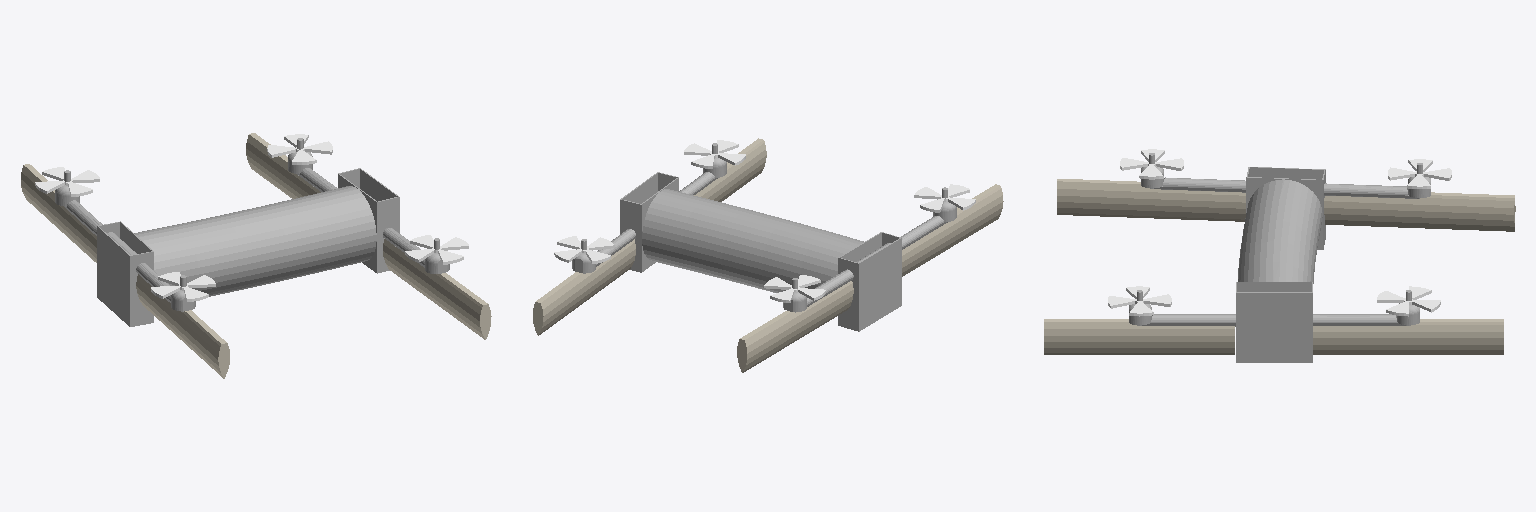
robot.urdf — drone_description:
<?xml version="1.0" encoding="utf-8"?>
<!-- This URDF was automatically created by SolidWorks to URDF Exporter! Originally created by [author] ([email redacted]) 
     Commit Version: 1.5.0-0-g9aa0fdb  Build Version: 1.5.7004.21443
     For more information, please see http://wiki.ros.org/sw_urdf_exporter -->
<robot
  name="drone_description">
  <link
    name="drone_body">
    <inertial>
      <origin
        xyz="3.9739303772232E-05 -0.00112994714726676 -0.00455425521413035"
        rpy="0 0 0" />
      <mass
        value="0.357445870183079" />
      <inertia
        ixx="0.000431080496676135"
        ixy="5.48449149897168E-05"
        ixz="-3.7324869857622E-10"
        iyy="0.00168484099043515"
        iyz="1.18114705298716E-12"
        izz="0.00169240821714416" />
    </inertial>
    <visual>
      <origin
        xyz="0 0 0"
        rpy="0 0 0" />
      <geometry>
        <mesh
          filename="package://drone_description/meshes/drone_body.STL" />
      </geometry>
      <material
        name="">
        <color
          rgba="0.752941176470588 0.752941176470588 0.752941176470588 1" />
      </material>
    </visual>
    <collision>
      <origin
        xyz="0 0 0"
        rpy="0 0 0" />
      <geometry>
        <mesh
          filename="package://drone_description/meshes/drone_body.STL" />
      </geometry>
    </collision>
  </link>
  <link
    name="front_arm">
    <inertial>
      <origin
        xyz="-3.328156376603E-07 0.00528847069891194 -4.23110765174206E-12"
        rpy="0 0 0" />
      <mass
        value="0.0488863352917365" />
      <inertia
        ixx="0.000132396833896061"
        ixy="-4.99567917547445E-13"
        ixz="-7.39033945209973E-13"
        iyy="0.000132377174520321"
        iyz="-2.4738845028855E-17"
        izz="2.60423234522648E-06" />
    </inertial>
    <visual>
      <origin
        xyz="0 0 0"
        rpy="0 0 0" />
      <geometry>
        <mesh
          filename="package://drone_description/meshes/front_arm.STL" />
      </geometry>
      <material
        name="">
        <color
          rgba="0.752941176470588 0.752941176470588 0.752941176470588 1" />
      </material>
    </visual>
    <collision>
      <origin
        xyz="0 0 0"
        rpy="0 0 0" />
      <geometry>
        <mesh
          filename="package://drone_description/meshes/front_arm.STL" />
      </geometry>
    </collision>
  </link>
  <joint
    name="front_arm_joint"
    type="continuous">
    <origin
      xyz="0.132672408666361 -0.00476080646900178 -0.00245406277845809"
      rpy="1.5707963267949 0 0" />
    <parent
      link="drone_body" />
    <child
      link="front_arm" />
    <axis
      xyz="0 0 -1" />
    <safety_controller
      k_velocity="0" />
  </joint>
  <link
    name="front_right_prop">
    <inertial>
      <origin
        xyz="-2.77555756156289E-17 2.77555756156289E-17 0.0015875"
        rpy="0 0 0" />
      <mass
        value="0.00504005698984341" />
      <inertia
        ixx="1.27162752917409E-06"
        ixy="3.11019910319938E-22"
        ixz="1.7556908501438E-22"
        iyy="1.27162752917409E-06"
        iyz="2.36643125436923E-23"
        izz="2.53478723759932E-06" />
    </inertial>
    <visual>
      <origin
        xyz="0 0 0"
        rpy="0 0 0" />
      <geometry>
        <mesh
          filename="package://drone_description/meshes/front_right_prop.STL" />
      </geometry>
      <material
        name="">
        <color
          rgba="1 1 1 1" />
      </material>
    </visual>
    <collision>
      <origin
        xyz="0 0 0"
        rpy="0 0 0" />
      <geometry>
        <mesh
          filename="package://drone_description/meshes/front_right_prop.STL" />
      </geometry>
    </collision>
  </link>
  <joint
    name="front_right_prop_joint"
    type="continuous">
    <origin
      xyz="0 0.019049999962237 0.1325"
      rpy="-1.5707963267949 0 6.29649045572343E-05" />
    <parent
      link="front_arm" />
    <child
      link="front_right_prop" />
    <axis
      xyz="0 0 1" />
    <safety_controller
      k_velocity="0" />
  </joint>
  <link
    name="front_left_prop">
    <inertial>
      <origin
        xyz="0 2.77555756156289E-17 0.0015875"
        rpy="0 0 0" />
      <mass
        value="0.00504005698984341" />
      <inertia
        ixx="1.2716275291741E-06"
        ixy="-2.11758236813575E-22"
        ixz="1.98239003677162E-22"
        iyy="1.27162752917409E-06"
        iyz="2.84666452991882E-23"
        izz="2.53478723759932E-06" />
    </inertial>
    <visual>
      <origin
        xyz="0 0 0"
        rpy="0 0 0" />
      <geometry>
        <mesh
          filename="package://drone_description/meshes/front_left_prop.STL" />
      </geometry>
      <material
        name="">
        <color
          rgba="1 1 1 1" />
      </material>
    </visual>
    <collision>
      <origin
        xyz="0 0 0"
        rpy="0 0 0" />
      <geometry>
        <mesh
          filename="package://drone_description/meshes/front_left_prop.STL" />
      </geometry>
    </collision>
  </link>
  <joint
    name="front_left_prop_joint"
    type="continuous">
    <origin
      xyz="0 0.0190499999622373 -0.1325"
      rpy="-1.5707963267949 0 6.29649045572343E-05" />
    <parent
      link="front_arm" />
    <child
      link="front_left_prop" />
    <axis
      xyz="0 0 1" />
    <safety_controller
      k_velocity="0" />
  </joint>
  <link
    name="front_right_wing">
    <inertial>
      <origin
        xyz="-2.5687142760078E-07 -6.69619957427425E-07 8.55690921422805E-05"
        rpy="0 0 0" />
      <mass
        value="0.0106409229155552" />
      <inertia
        ixx="3.22240827607208E-05"
        ixy="8.34233189015923E-12"
        ixz="4.40330785296604E-13"
        iyy="1.00346951370682E-06"
        iyz="-3.00146201115274E-21"
        izz="3.14347766518031E-05" />
    </inertial>
    <visual>
      <origin
        xyz="0 0 0"
        rpy="0 0 0" />
      <geometry>
        <mesh
          filename="package://drone_description/meshes/front_right_wing.STL" />
      </geometry>
      <material
        name="">
        <color
          rgba="0.843137254901961 0.815686274509804 0.752941176470588 1" />
      </material>
    </visual>
    <collision>
      <origin
        xyz="0 0 0"
        rpy="0 0 0" />
      <geometry>
        <mesh
          filename="package://drone_description/meshes/front_right_wing.STL" />
      </geometry>
    </collision>
  </link>
  <joint
    name="front_right_wing_joint"
    type="fixed">
    <origin
      xyz="0 -0.0170179999662659 0.1325"
      rpy="-1.5707963267949 0 6.29649045571202E-05" />
    <parent
      link="front_arm" />
    <child
      link="front_right_wing" />
    <axis
      xyz="0 0 0" />
    <safety_controller
      k_velocity="0" />
  </joint>
  <link
    name="front_left_wing">
    <inertial>
      <origin
        xyz="2.56846023199975E-07 6.69619957344159E-07 8.55690884140337E-05"
        rpy="0 0 0" />
      <mass
        value="0.0106409229167305" />
      <inertia
        ixx="3.22240827618886E-05"
        ixy="8.34233188918646E-12"
        ixz="-4.43666864087224E-13"
        iyy="1.00346951311838E-06"
        iyz="-3.89512807323328E-22"
        izz="3.14347766541992E-05" />
    </inertial>
    <visual>
      <origin
        xyz="0 0 0"
        rpy="0 0 0" />
      <geometry>
        <mesh
          filename="package://drone_description/meshes/front_left_wing.STL" />
      </geometry>
      <material
        name="">
        <color
          rgba="0.843137254901961 0.815686274509804 0.752941176470588 1" />
      </material>
    </visual>
    <collision>
      <origin
        xyz="0 0 0"
        rpy="0 0 0" />
      <geometry>
        <mesh
          filename="package://drone_description/meshes/front_left_wing.STL" />
      </geometry>
    </collision>
  </link>
  <joint
    name="front_left_wing_joint"
    type="fixed">
    <origin
      xyz="0 -0.0170179999662655 -0.1325"
      rpy="-1.5707963267949 0 6.29649045573601E-05" />
    <parent
      link="front_arm" />
    <child
      link="front_left_wing" />
    <axis
      xyz="0 0 0" />
    <safety_controller
      k_velocity="0" />
  </joint>
  <link
    name="back_arm">
    <inertial>
      <origin
        xyz="1.01225966386564E-05 0.00528846019484934 1.47609310191532E-10"
        rpy="0 0 0" />
      <mass
        value="0.0488863080383806" />
      <inertia
        ixx="0.000132396769219207"
        ixy="-3.97533673058159E-11"
        ixz="-7.4484792510868E-13"
        iyy="0.000132377109834705"
        iyz="5.11229898613289E-16"
        izz="2.60423206426902E-06" />
    </inertial>
    <visual>
      <origin
        xyz="0 0 0"
        rpy="0 0 0" />
      <geometry>
        <mesh
          filename="package://drone_description/meshes/back_arm.STL" />
      </geometry>
      <material
        name="">
        <color
          rgba="0.752941176470588 0.752941176470588 0.752941176470588 1" />
      </material>
    </visual>
    <collision>
      <origin
        xyz="0 0 0"
        rpy="0 0 0" />
      <geometry>
        <mesh
          filename="package://drone_description/meshes/back_arm.STL" />
      </geometry>
    </collision>
  </link>
  <joint
    name="back_arm_joint"
    type="continuous">
    <origin
      xyz="-0.132404672949994 0.006812708857805 0.0175458972215418"
      rpy="1.5707963267949 0 -0.0872664625997166" />
    <parent
      link="drone_body" />
    <child
      link="back_arm" />
    <axis
      xyz="0 0 1" />
    <safety_controller
      k_velocity="0" />
  </joint>
  <link
    name="back_right_prop">
    <inertial>
      <origin
        xyz="-2.77555756156289E-17 2.77555756156289E-17 0.0015875"
        rpy="0 0 0" />
      <mass
        value="0.00504005698984341" />
      <inertia
        ixx="1.2716275291741E-06"
        ixy="1.27143339610406E-22"
        ixz="1.4475660719678E-22"
        iyy="1.27162752917409E-06"
        iyz="-2.05618043510812E-24"
        izz="2.53478723759932E-06" />
    </inertial>
    <visual>
      <origin
        xyz="0 0 0"
        rpy="0 0 0" />
      <geometry>
        <mesh
          filename="package://drone_description/meshes/back_right_prop.STL" />
      </geometry>
      <material
        name="">
        <color
          rgba="1 1 1 1" />
      </material>
    </visual>
    <collision>
      <origin
        xyz="0 0 0"
        rpy="0 0 0" />
      <geometry>
        <mesh
          filename="package://drone_description/meshes/back_right_prop.STL" />
      </geometry>
    </collision>
  </link>
  <joint
    name="back_right_prop_joint"
    type="continuous">
    <origin
      xyz="3.64629030858987E-05 0.0190499651038185 0.1325"
      rpy="-1.5707963267949 0 -0.00191406432285105" />
    <parent
      link="back_arm" />
    <child
      link="back_right_prop" />
    <axis
      xyz="0.000114168295889295 0 0.9999999934828" />
    <safety_controller
      k_velocity="0" />
  </joint>
  <link
    name="back_left_prop">
    <inertial>
      <origin
        xyz="-5.55111512312578E-17 0 0.0015875"
        rpy="0 0 0" />
      <mass
        value="0.00504005698984341" />
      <inertia
        ixx="1.2716275291741E-06"
        ixy="5.43898856097587E-23"
        ixz="1.70399206185924E-22"
        iyy="1.27162752917409E-06"
        iyz="-4.03801898769125E-23"
        izz="2.53478723759932E-06" />
    </inertial>
    <visual>
      <origin
        xyz="0 0 0"
        rpy="0 0 0" />
      <geometry>
        <mesh
          filename="package://drone_description/meshes/back_left_prop.STL" />
      </geometry>
      <material
        name="">
        <color
          rgba="1 1 1 1" />
      </material>
    </visual>
    <collision>
      <origin
        xyz="0 0 0"
        rpy="0 0 0" />
      <geometry>
        <mesh
          filename="package://drone_description/meshes/back_left_prop.STL" />
      </geometry>
    </collision>
  </link>
  <joint
    name="back_left_prop_joint"
    type="continuous">
    <origin
      xyz="3.6462903085871E-05 0.0190499651038184 -0.1325"
      rpy="-1.5707963267949 0 -0.00191406432285105" />
    <parent
      link="back_arm" />
    <child
      link="back_left_prop" />
    <axis
      xyz="0.000114168295889295 0 0.9999999934828" />
    <safety_controller
      k_velocity="0" />
  </joint>
  <link
    name="back_right_wing">
    <inertial>
      <origin
        xyz="1.21655134022181E-08 5.55111512312578E-17 8.4713814092024E-05"
        rpy="0 0 0" />
      <mass
        value="0.0106410240095179" />
      <inertia
        ixx="3.22240827652041E-05"
        ixy="8.34233189028258E-12"
        ixz="4.9341936635132E-13"
        iyy="1.00346951237549E-06"
        iyz="-8.1684646387411E-22"
        izz="3.14347766576977E-05" />
    </inertial>
    <visual>
      <origin
        xyz="0 0 0"
        rpy="0 0 0" />
      <geometry>
        <mesh
          filename="package://drone_description/meshes/back_right_wing.STL" />
      </geometry>
      <material
        name="">
        <color
          rgba="0.843137254901961 0.815686274509804 0.752941176470588 1" />
      </material>
    </visual>
    <collision>
      <origin
        xyz="0 0 0"
        rpy="0 0 0" />
      <geometry>
        <mesh
          filename="package://drone_description/meshes/back_right_wing.STL" />
      </geometry>
    </collision>
  </link>
  <joint
    name="back_right_wing_joint"
    type="fixed">
    <origin
      xyz="-3.25735267566463E-05 -0.0170179688260777 0.1325"
      rpy="-1.5707963267949 0 -0.00191406432285116" />
    <parent
      link="back_arm" />
    <child
      link="back_right_wing" />
    <axis
      xyz="0 0 0" />
    <safety_controller
      k_velocity="0" />
  </joint>
  <link
    name="back_left_wing">
    <inertial>
      <origin
        xyz="-1.1306933167532E-08 -2.77555756156289E-17 8.47139273856042E-05"
        rpy="0 0 0" />
      <mass
        value="0.0106410239738009" />
      <inertia
        ixx="3.22240827297183E-05"
        ixy="8.34233189062913E-12"
        ixz="-3.92036504730356E-13"
        iyy="1.00346953026033E-06"
        iyz="-2.02427404433868E-21"
        izz="3.14347765848837E-05" />
    </inertial>
    <visual>
      <origin
        xyz="0 0 0"
        rpy="0 0 0" />
      <geometry>
        <mesh
          filename="package://drone_description/meshes/back_left_wing.STL" />
      </geometry>
      <material
        name="">
        <color
          rgba="0.843137254901961 0.815686274509804 0.752941176470588 1" />
      </material>
    </visual>
    <collision>
      <origin
        xyz="0 0 0"
        rpy="0 0 0" />
      <geometry>
        <mesh
          filename="package://drone_description/meshes/back_left_wing.STL" />
      </geometry>
    </collision>
  </link>
  <joint
    name="back_left_wing_joint"
    type="fixed">
    <origin
      xyz="-3.25735267567018E-05 -0.0170179688260779 -0.1325"
      rpy="-1.5707963267949 0 -0.00191406432285116" />
    <parent
      link="back_arm" />
    <child
      link="back_left_wing" />
    <axis
      xyz="0 0 0" />
    <safety_controller
      k_velocity="0" />
  </joint>
</robot>

--- What the picture shows (computed from the rendered views, not written in the file) ---
3 views of the same robot in one strip: view 1: azimuth 30°, elevation 25°; view 2: azimuth 150°, elevation 25°; view 3: azimuth 270°, elevation 25° (orthographic).
Model drone_description with 11 links and 10 joints (6 continuous, 4 fixed), rooted at drone_body, posed every joint at zero.
Links seen in each view (by area): view 1: drone_body, front_right_wing, back_right_wing, back_left_wing, front_left_wing, back_arm, front_arm, front_right_prop, back_right_prop, back_left_prop, front_left_prop; view 2: drone_body, back_left_wing, front_left_wing, back_right_wing, back_arm, front_right_wing, front_arm, front_left_prop, back_left_prop, back_right_prop, front_right_prop; view 3: drone_body, back_left_wing, front_right_wing, front_left_wing, back_right_wing, front_arm, back_arm, front_left_prop, back_right_prop, back_left_prop, front_right_prop.
Boxes of the visible links, left/top/right/bottom form: drone_body: left=97, top=168, right=399, bottom=326; front_right_wing: left=383, top=239, right=491, bottom=339; back_right_wing: left=136, top=274, right=229, bottom=378; back_left_wing: left=21, top=164, right=96, bottom=262; front_left_wing: left=246, top=133, right=320, bottom=198; back_arm: left=55, top=170, right=195, bottom=311; front_arm: left=288, top=138, right=449, bottom=273; front_right_prop: left=405, top=235, right=468, bottom=264; back_right_prop: left=151, top=272, right=215, bottom=301; back_left_prop: left=35, top=167, right=99, bottom=196; front_left_prop: left=267, top=134, right=332, bottom=164; drone_body: left=620, top=172, right=901, bottom=331; back_left_wing: left=737, top=281, right=853, bottom=372; front_left_wing: left=533, top=239, right=635, bottom=335; back_right_wing: left=902, top=184, right=1003, bottom=276; back_arm: left=783, top=187, right=956, bottom=312; front_right_wing: left=694, top=138, right=766, bottom=201; front_arm: left=572, top=143, right=726, bottom=273; front_left_prop: left=554, top=236, right=614, bottom=263; back_left_prop: left=764, top=275, right=825, bottom=302; back_right_prop: left=914, top=184, right=975, bottom=212; front_right_prop: left=684, top=140, right=745, bottom=168; drone_body: left=1236, top=167, right=1325, bottom=362; back_left_wing: left=1324, top=192, right=1515, bottom=231; front_right_wing: left=1044, top=319, right=1234, bottom=354; front_left_wing: left=1313, top=319, right=1503, bottom=354; back_right_wing: left=1057, top=179, right=1245, bottom=221; front_arm: left=1129, top=290, right=1419, bottom=326; back_arm: left=1141, top=153, right=1430, bottom=198; front_left_prop: left=1377, top=286, right=1440, bottom=316; back_right_prop: left=1120, top=149, right=1183, bottom=179; back_left_prop: left=1388, top=159, right=1451, bottom=188; front_right_prop: left=1108, top=286, right=1171, bottom=316.
Bounding box of the posed robot: 0.34 × 0.4642 × 0.0918 m (x, y, z).
11 mesh visuals loaded from 11 distinct referenced files (11 binary STL).